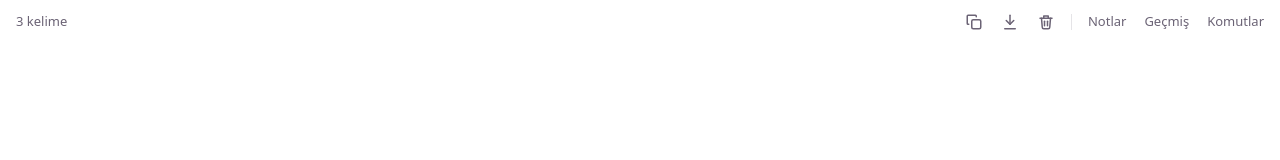
it: araç satırı › indirme menüsü › Tab ile menüden çıkınca kapanır
Click the button named "İndir".
click(1010, 22)  # box [993,6,1027,38]
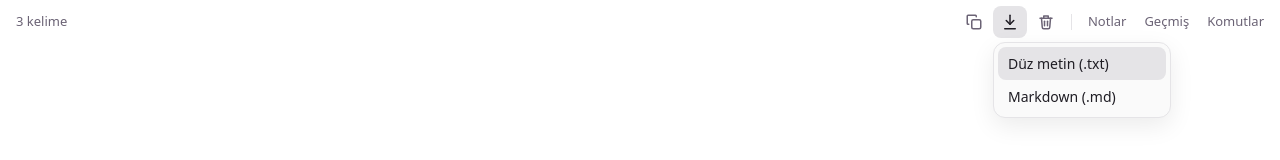
Press Tab
Press Tab
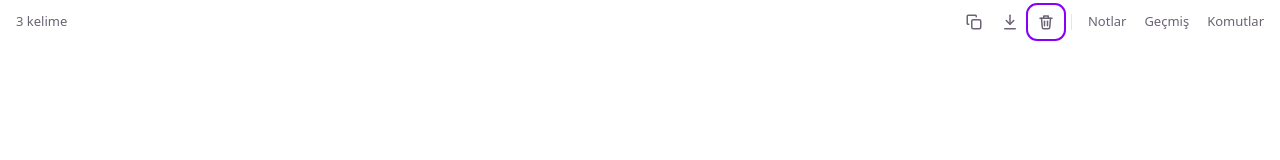
Now the menu is gone
